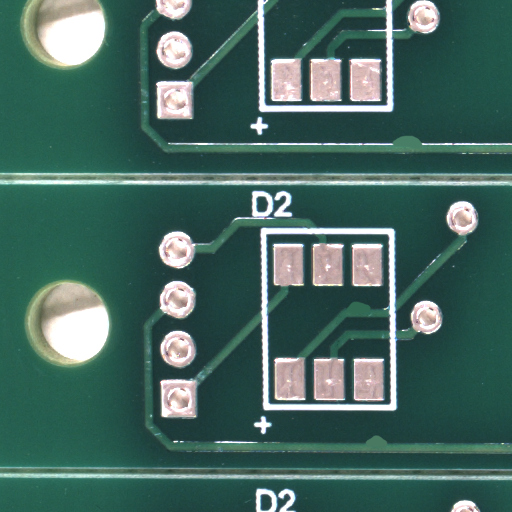Spur: (405, 140, 436, 153), (360, 305, 389, 318), (373, 439, 400, 450)
